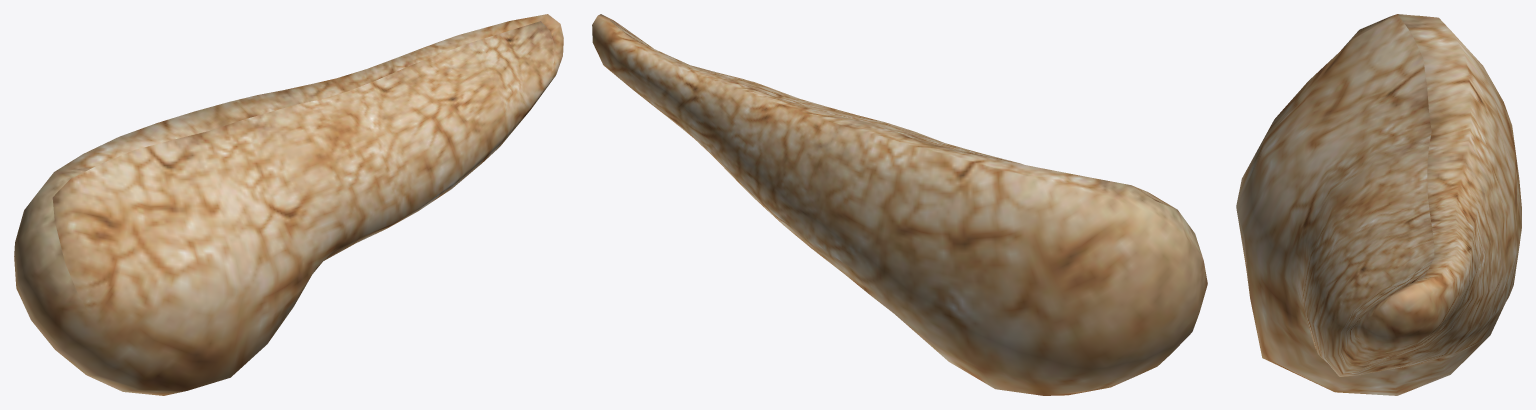
Rendered from FBX_Pancreas.fbx.
The picture shows the model from 3 angles, left to right: view 1: azimuth 30°, elevation 25°; view 2: azimuth 150°, elevation 25°; view 3: azimuth 270°, elevation 25°; orthographic projection. The views are drawn at different scales.
Parts seen in each view (by area): view 1: Pancreas_Anim; view 2: Pancreas_Anim; view 3: Pancreas_Anim.
Boxes of the visible parts, box(x1,y1,x2,y2) form: Pancreas_Anim: box(14, 14, 563, 395); Pancreas_Anim: box(592, 14, 1207, 395); Pancreas_Anim: box(1236, 14, 1521, 395).
Size of the model in its own units: 10.46 by 4.71 by 3.38.
